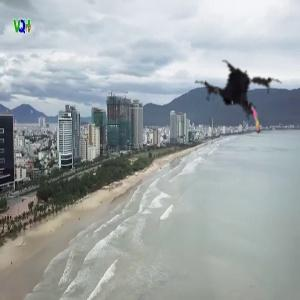drone: (187, 50, 290, 153)
